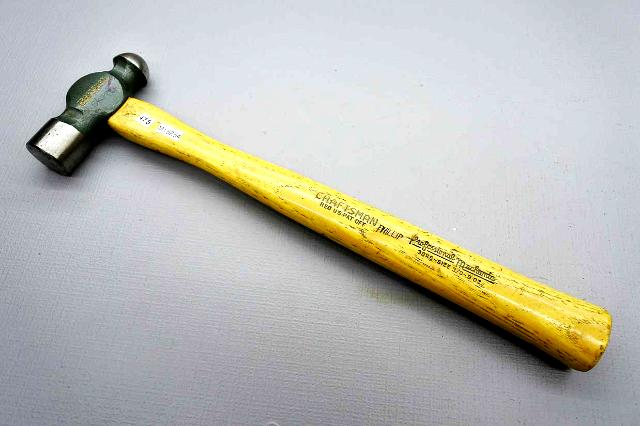hammer: (21, 48, 618, 376)
